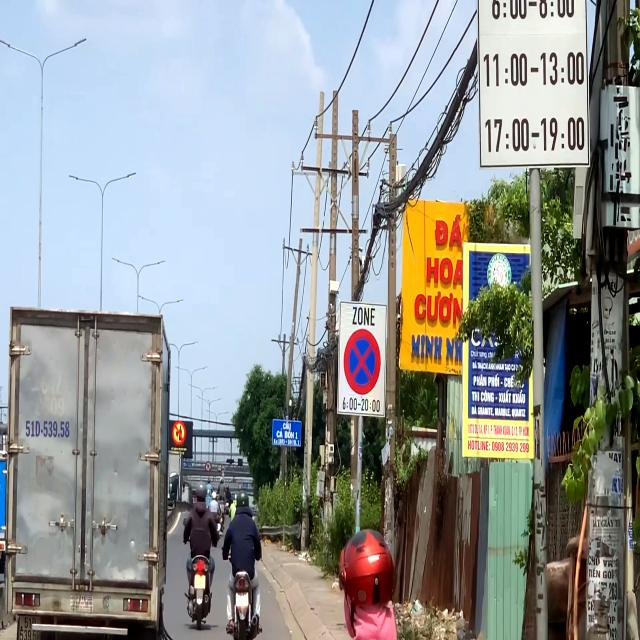P.130: (343, 328, 381, 394)
